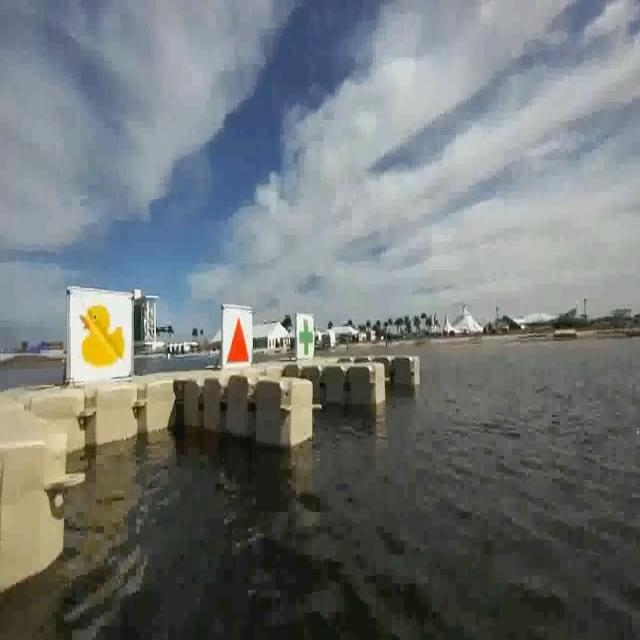blue-cross: (296, 311, 316, 361)
red-dot: (222, 301, 249, 371)
yellow-duck: (80, 300, 127, 366)
